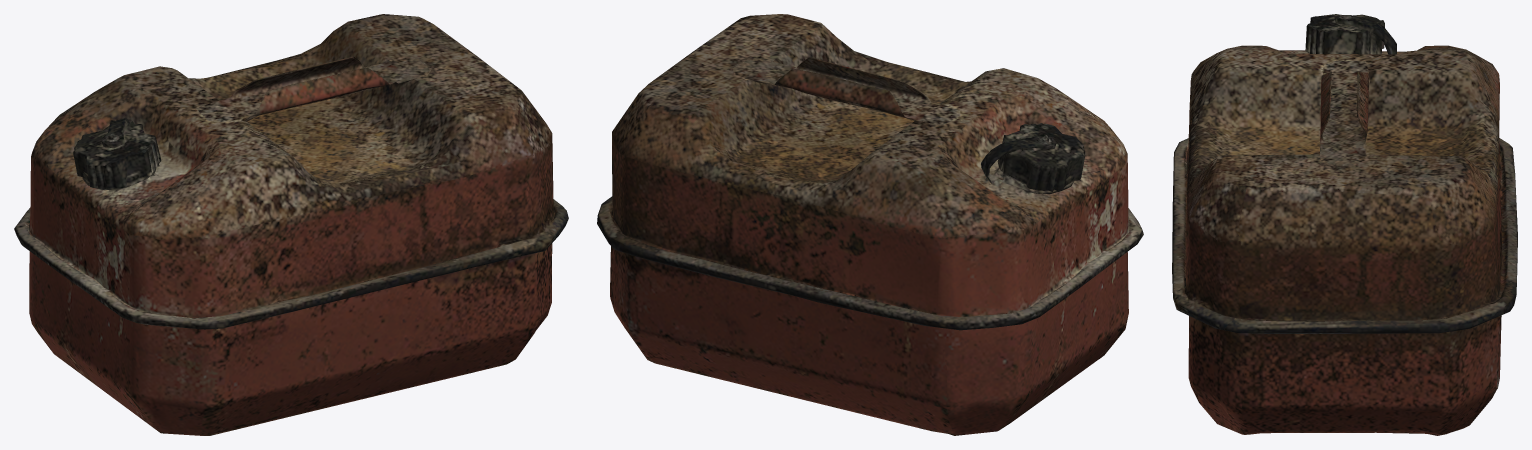
Rendered from SM_Ind_War_Container_Jerrycan_Metal_Red_03.gltf.
3 views of the same model, side by side, from view 1: azimuth 30°, elevation 25°; view 2: azimuth 150°, elevation 25°; view 3: azimuth 270°, elevation 25° (orthographic). The views are drawn at different scales.
Visible parts, largest first — view 1: SM_Ind_War_Container_Jerrycan_Metal_Red_03; view 2: SM_Ind_War_Container_Jerrycan_Metal_Red_03; view 3: SM_Ind_War_Container_Jerrycan_Metal_Red_03.
Part boxes in pixels (x1,y1,x2,y2): SM_Ind_War_Container_Jerrycan_Metal_Red_03: (14, 14, 568, 435); SM_Ind_War_Container_Jerrycan_Metal_Red_03: (597, 14, 1143, 435); SM_Ind_War_Container_Jerrycan_Metal_Red_03: (1172, 14, 1517, 435).
Bounding box in the file's own units: 0.3779 × 0.2265 × 0.2632.
Materials: 1 (1 with a texture image).
